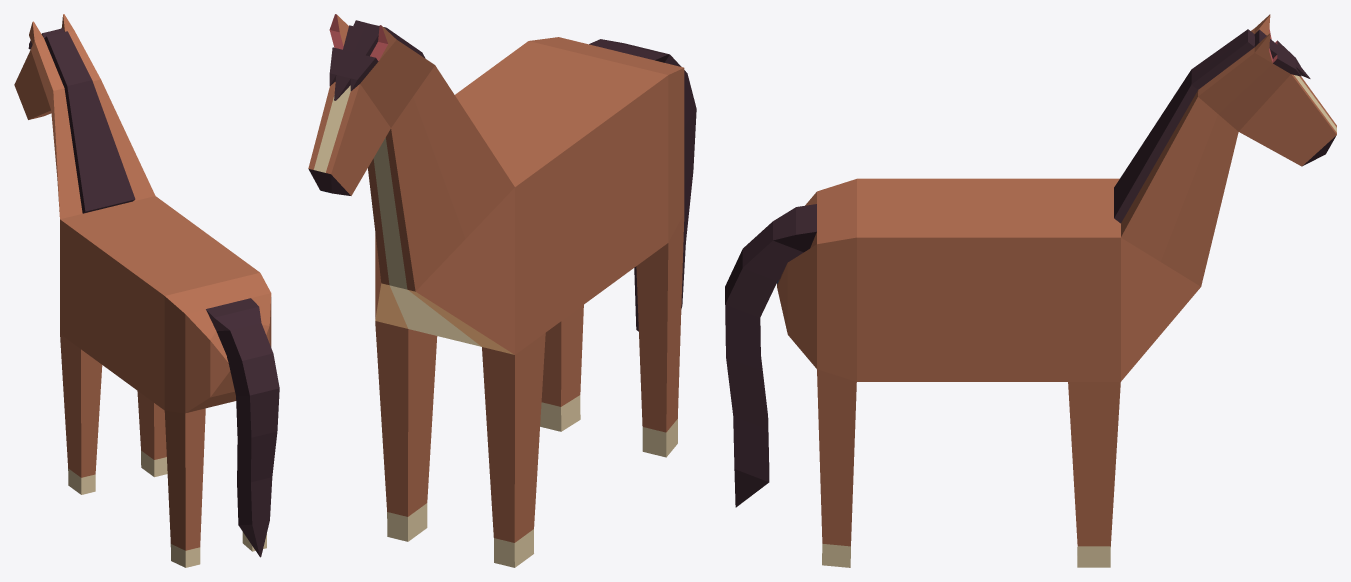
Rendered from Caballo.fbx.
The picture shows the model from 3 angles, left to right: view 1: azimuth 30°, elevation 25°; view 2: azimuth 150°, elevation 25°; view 3: azimuth 270°, elevation 25°; orthographic projection. The views are drawn at different scales.
Parts seen in each view (by area): view 1: Cube; view 2: Cube; view 3: Cube.
Boxes of the visible parts, x1,y1,x2,y2 form: Cube: [14, 14, 279, 567]; Cube: [308, 14, 696, 567]; Cube: [725, 14, 1336, 567].
Bounding box in the file's own units: 50.03 × 205 × 220.
1 material, 1 textured.
